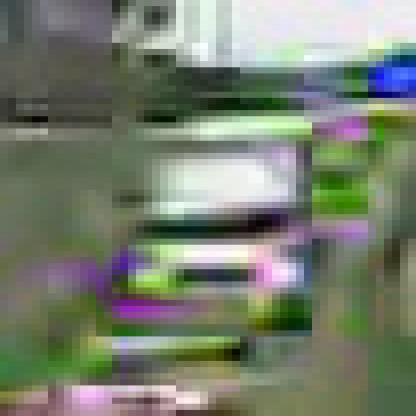container: (97, 124, 321, 344)
